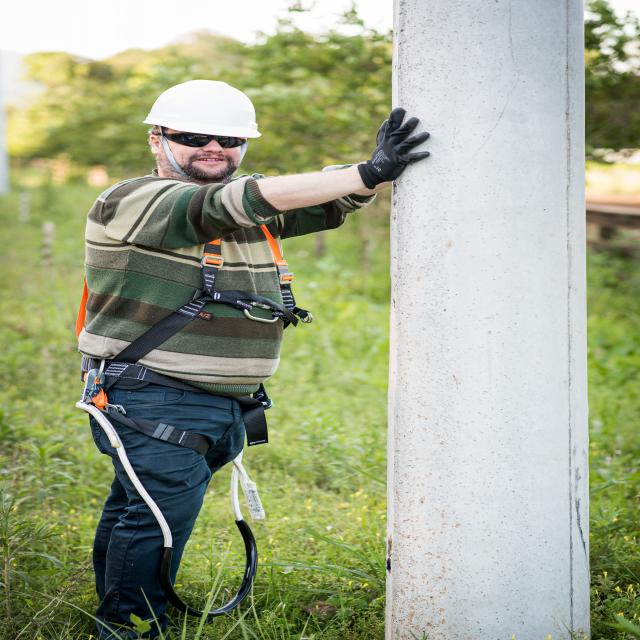capacete: (141, 77, 266, 143)
corda de vida: (69, 175, 319, 468)
luva: (355, 107, 434, 190)
